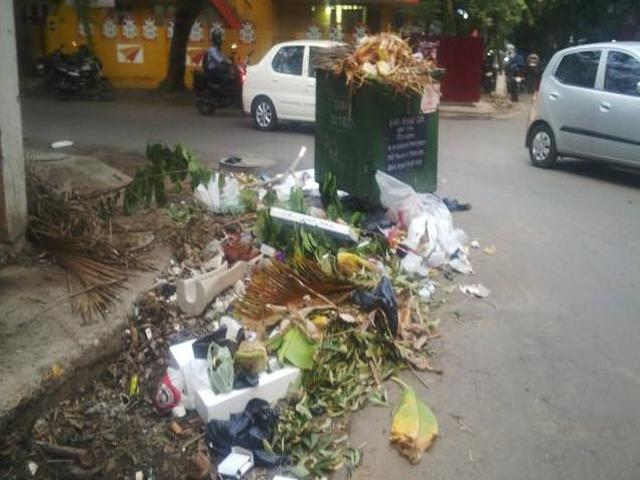garbage: (201, 178, 352, 442), (360, 212, 416, 361)
